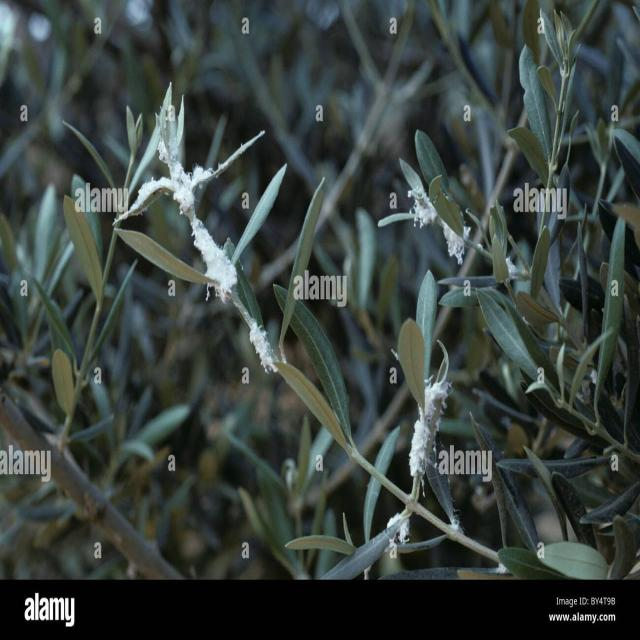Psyllid: (400, 159, 470, 265), (409, 371, 451, 499), (245, 313, 281, 374), (386, 506, 410, 558)
